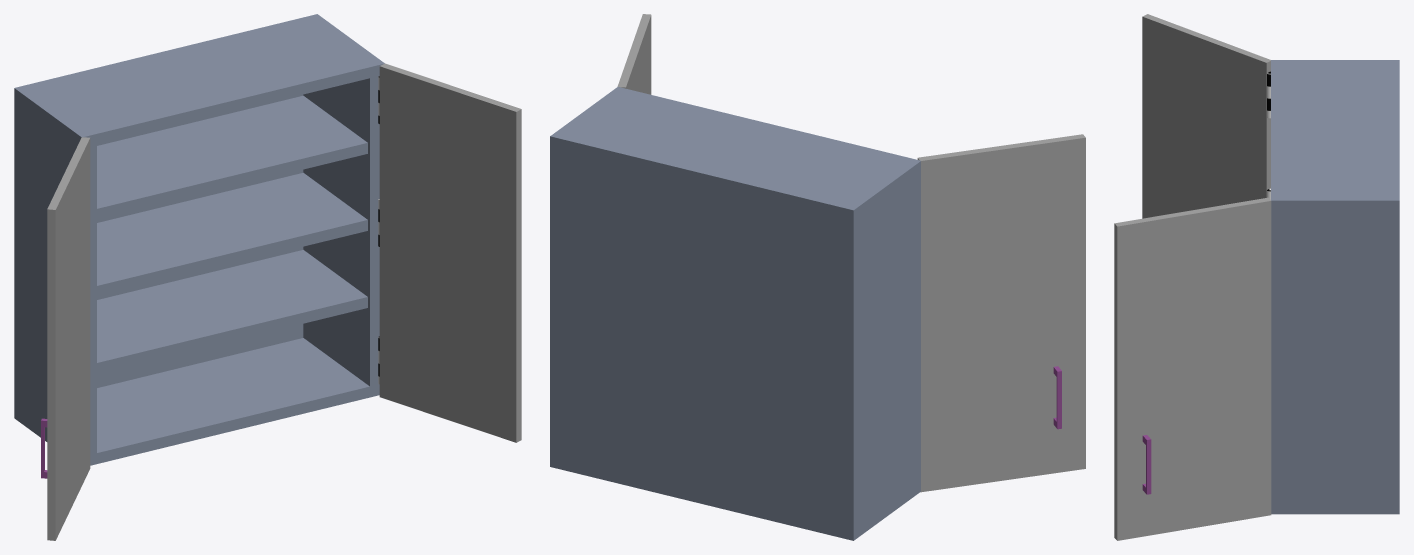
The model's file is cupboard.fbx.
3 renders of one model, left to right at view 1: azimuth 30°, elevation 25°; view 2: azimuth 150°, elevation 25°; view 3: azimuth 270°, elevation 25°, orthographic. The views are drawn at different scales.
Parts seen in each view (by area): view 1: shelves, door2, door1; view 2: shelves, door1, door2; view 3: shelves, door2, door1, handle2.
Boxes of the visible parts, x1,y1,x2,y2 form: shelves: [14, 14, 384, 465]; door2: [379, 63, 521, 442]; door1: [47, 137, 90, 540]; shelves: [550, 87, 920, 540]; door1: [917, 134, 1085, 492]; door2: [617, 14, 651, 94]; shelves: [1271, 60, 1399, 514]; door2: [1114, 197, 1271, 540]; door1: [1142, 14, 1270, 218]; handle2: [1142, 435, 1151, 494].
Bounding box in the file's own units: 1.22 × 0.8369 × 0.6877.
Materials: 4 (1 with a texture image).
